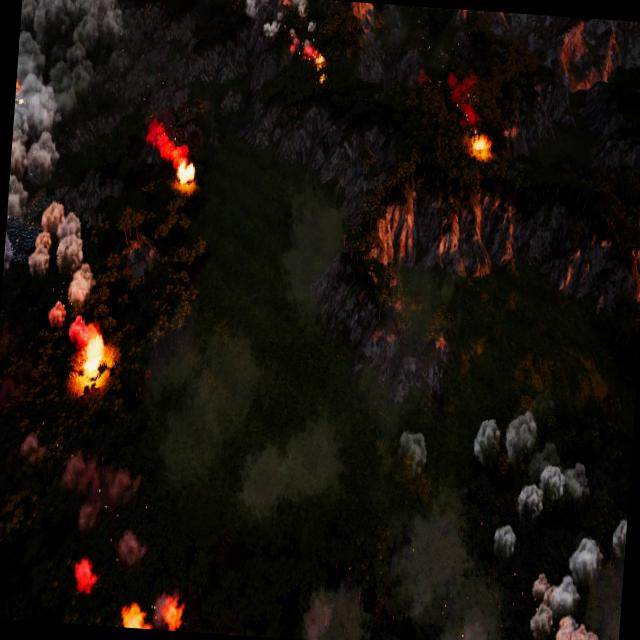fire: (243, 0, 318, 48), (144, 126, 200, 190), (78, 326, 112, 383), (298, 40, 330, 84), (151, 591, 183, 631), (70, 558, 100, 594), (119, 602, 147, 628), (468, 134, 491, 158)
smoke: (0, 0, 123, 346), (458, 406, 633, 640), (11, 428, 152, 564), (526, 531, 602, 639), (443, 68, 488, 130), (394, 427, 432, 483)
